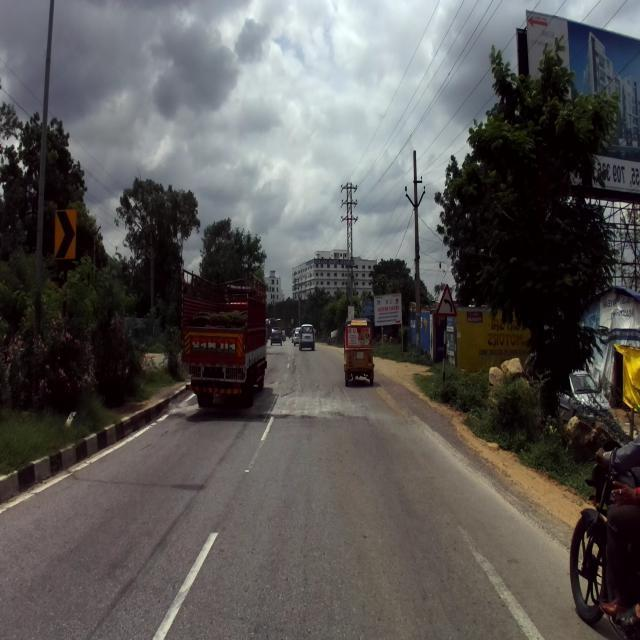Pothole: (247, 390, 389, 423)
